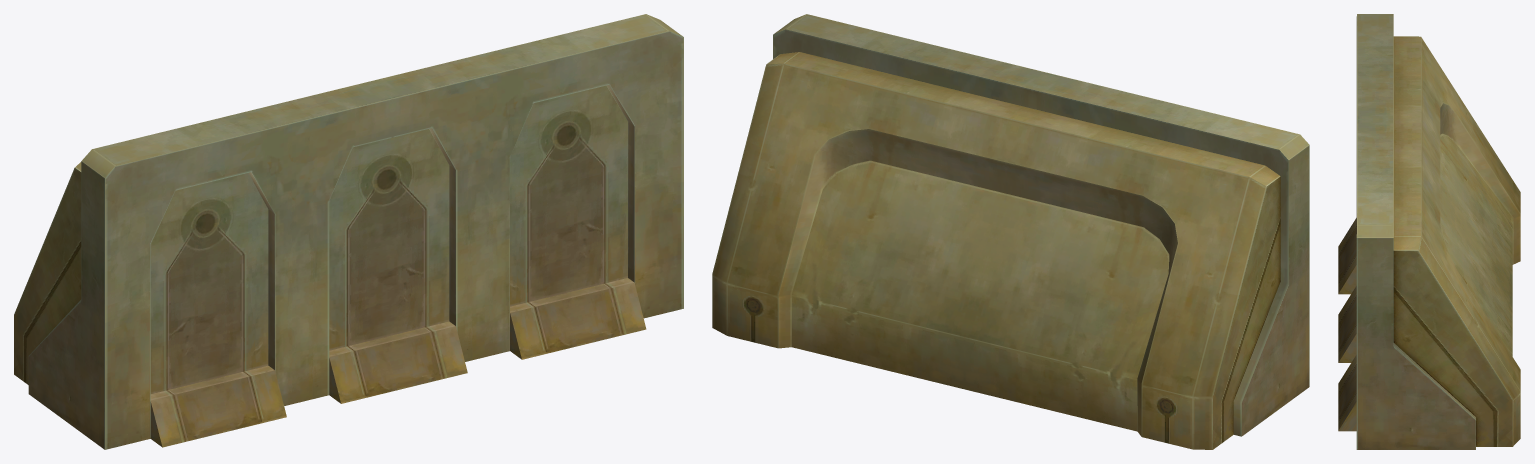
The model's file is all_item_und_barricade.glb.
3 views of the same model, side by side, from view 1: azimuth 30°, elevation 25°; view 2: azimuth 150°, elevation 25°; view 3: azimuth 270°, elevation 25° (orthographic). The views are drawn at different scales.
Visible parts, largest first — view 1: all_item_und_barricade; view 2: all_item_und_barricade; view 3: all_item_und_barricade.
Part boxes in pixels (x1=…): all_item_und_barricade: x1=14, y1=14, x2=683, y2=449; all_item_und_barricade: x1=712, y1=14, x2=1309, y2=449; all_item_und_barricade: x1=1338, y1=14, x2=1520, y2=449.
Size of the model in its own units: 0.3019 by 0.14 by 0.1056.
Materials: 1 (1 with a texture image).
